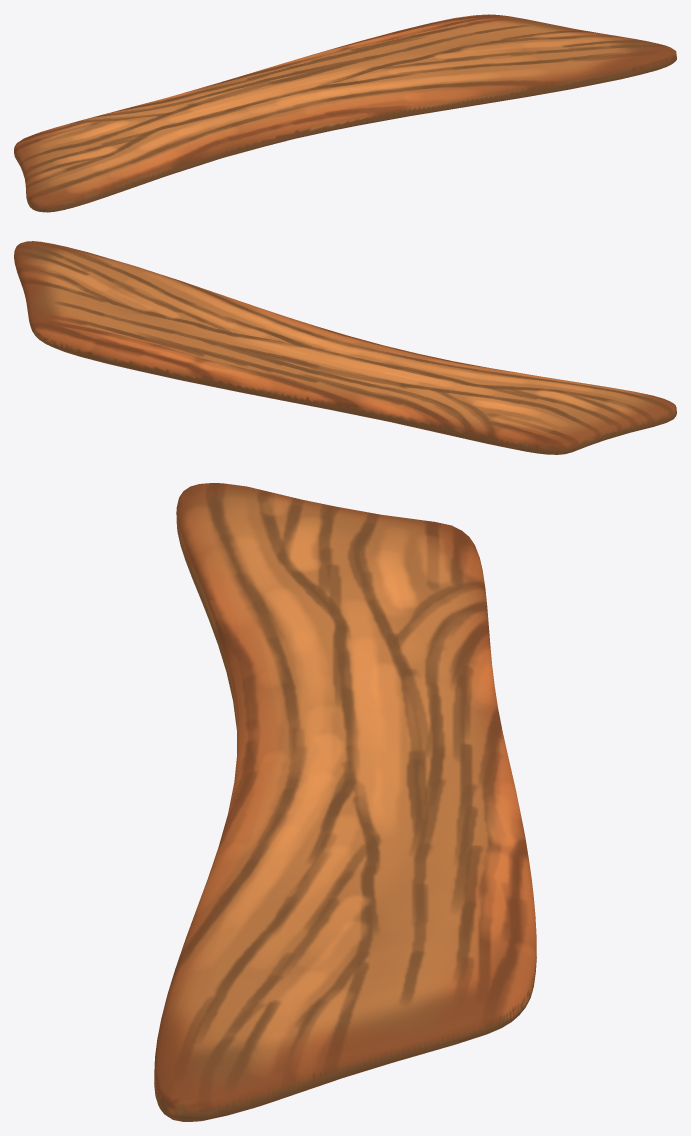
Rendered from Town_BridgeSet_2.glb.
3 views of the same model, one above another, from view 1: azimuth 30°, elevation 25°; view 2: azimuth 150°, elevation 25°; view 3: azimuth 270°, elevation 25° (orthographic). The views are drawn at different scales.
Visible parts, largest first — view 1: Plane.001; view 2: Plane.001; view 3: Plane.001.
Boxes of the visible parts, x1,y1,x2,y2 form: Plane.001: (14, 14, 676, 212); Plane.001: (14, 241, 676, 454); Plane.001: (154, 483, 536, 1121).
Bounding box in the file's own units: 1.72 × 0.0589 × 0.4467.
1 material, 1 textured.
